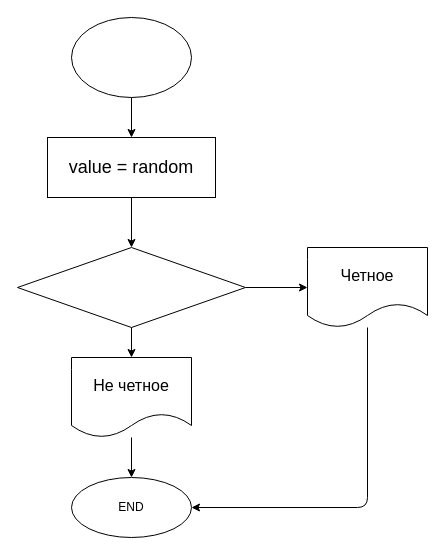
Image size: 445x555. Some labels were removed from this diagram. The shapes that lost their labels are listed below. From the top down, each one's centre as x and y in pixels, then its label:
(x=131, y=57): START
(x=131, y=287): value % 2 = 0
